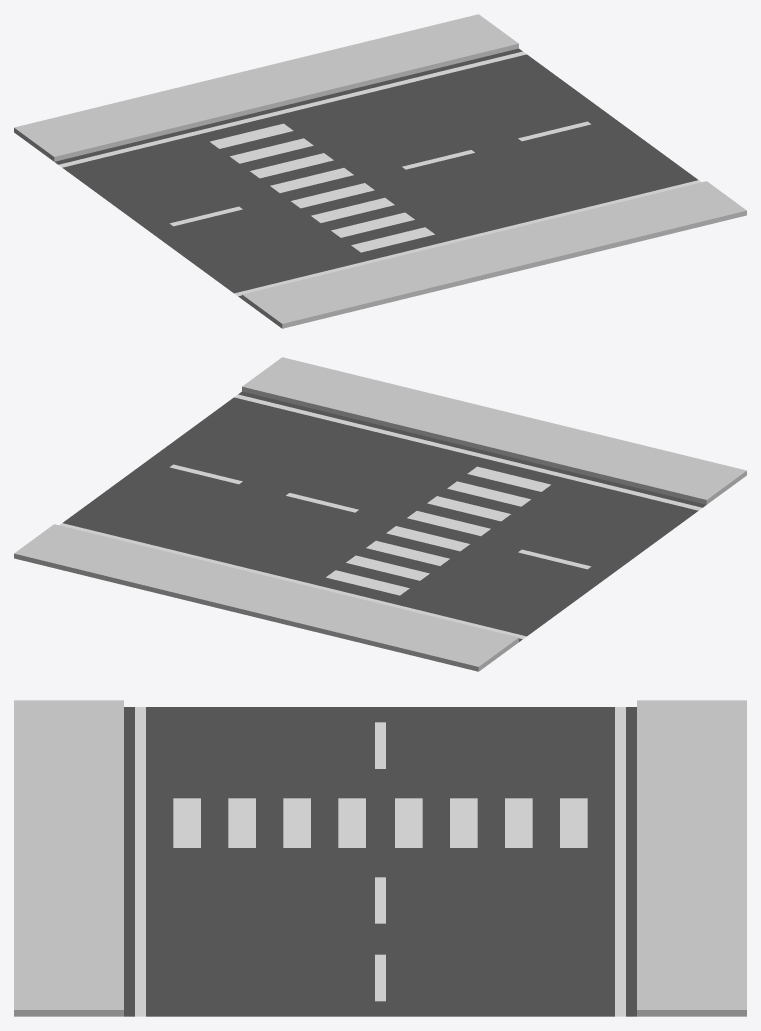
The model's file is SPW_Urban_Road 2way_03.gltf.
The picture shows the model from 3 angles, top to bottom: view 1: azimuth 30°, elevation 25°; view 2: azimuth 150°, elevation 25°; view 3: azimuth 270°, elevation 25°; orthographic projection. The views are drawn at different scales.
Visible parts, largest first — view 1: SPW_Urban_Road_2way_03; view 2: SPW_Urban_Road_2way_03; view 3: SPW_Urban_Road_2way_03.
Boxes of the visible parts, x1,y1,x2,y2 form: SPW_Urban_Road_2way_03: (14, 14, 746, 328); SPW_Urban_Road_2way_03: (14, 357, 746, 671); SPW_Urban_Road_2way_03: (14, 700, 746, 1016).
Size of the model in its own units: 787 by 7.87 by 787.
Materials: 1 (1 with a texture image).
